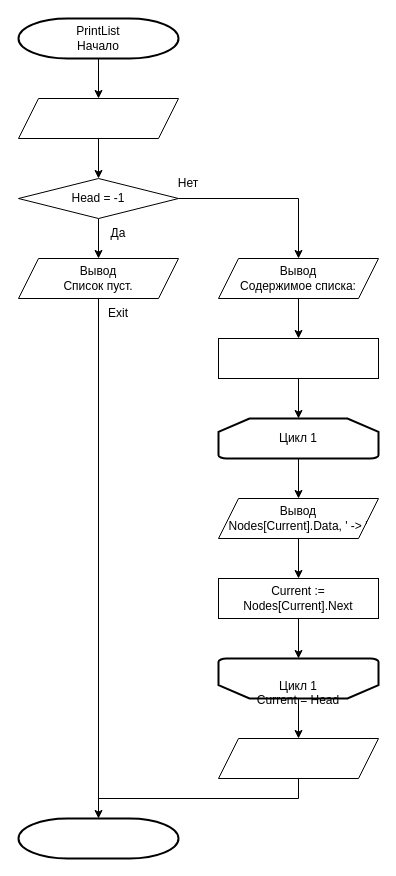
Image size: 396x876. Some labels were removed from this diagram. Each missing label, with the centre of its shape:
Current: the point at 98,118
Current := Head: the point at 298,358
PrintList Конец: the point at 98,838
Вывод '(начало)': the point at 298,758
